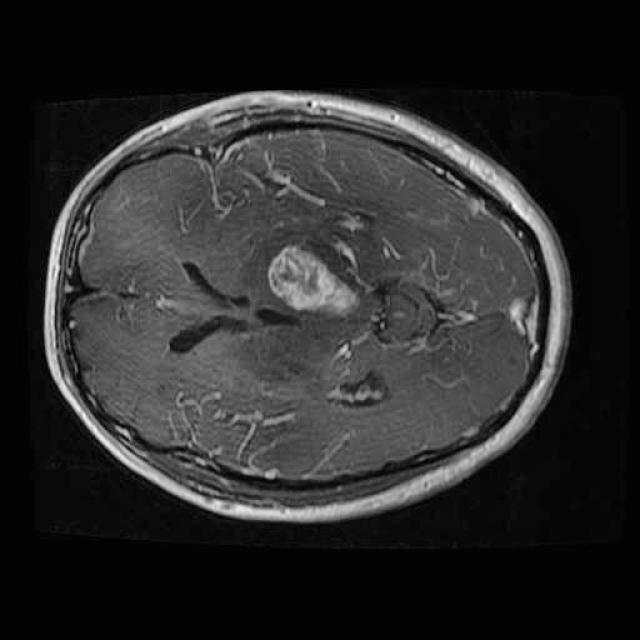Tumor: (262, 228, 372, 317)
